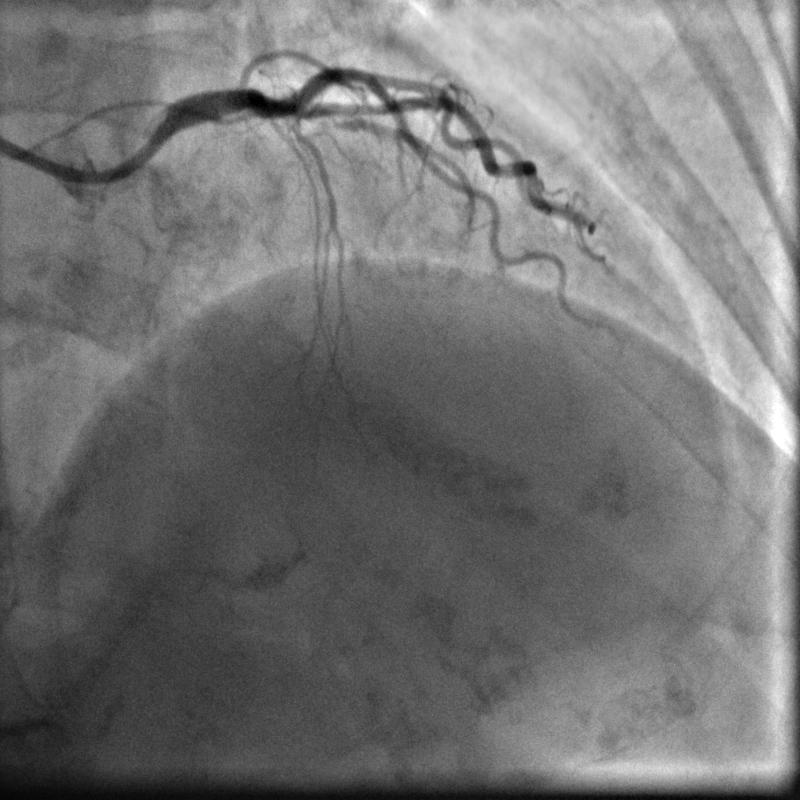Stenosis: (329, 114, 355, 127)
